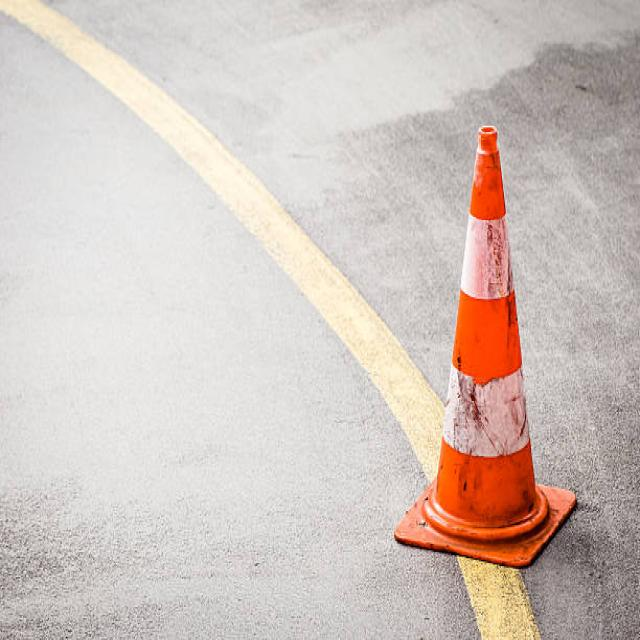Traffic Cone: (385, 103, 597, 589)
